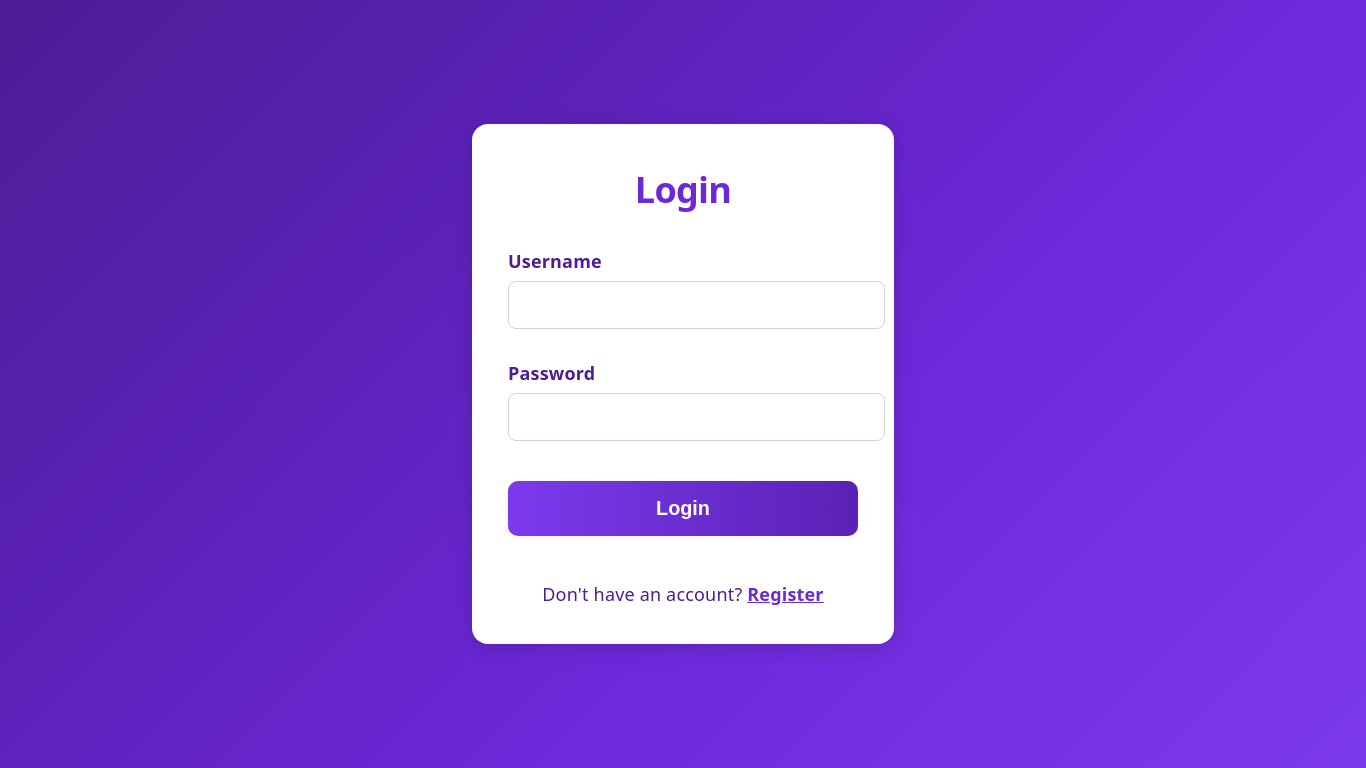
it: Login Page › shows error when login fails
The width and height of the screenshot is (1366, 768).
Type "testuser" into the field labelled "Username" at (697, 305), box [508, 281, 885, 329]
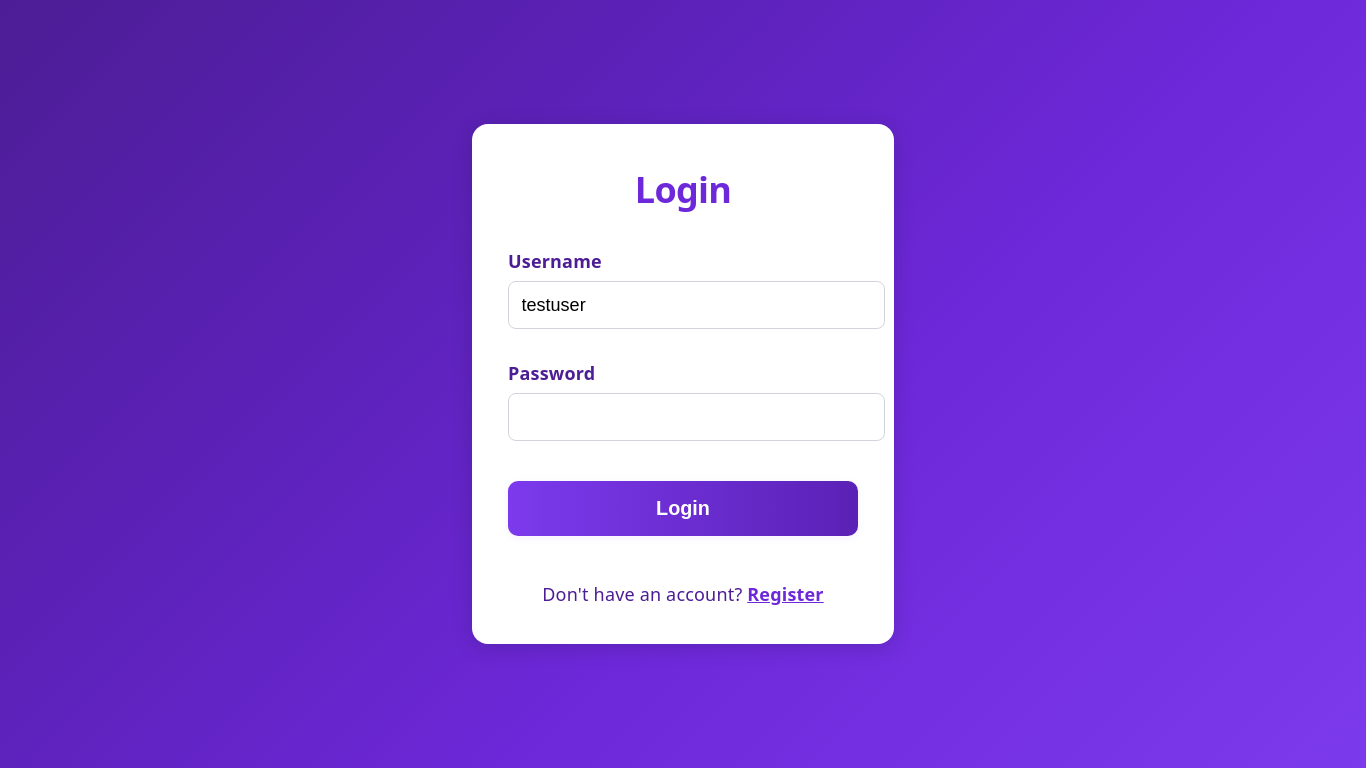
Type "wrongpassword" into the password field labelled "Password" at (697, 417), box [508, 393, 885, 442]
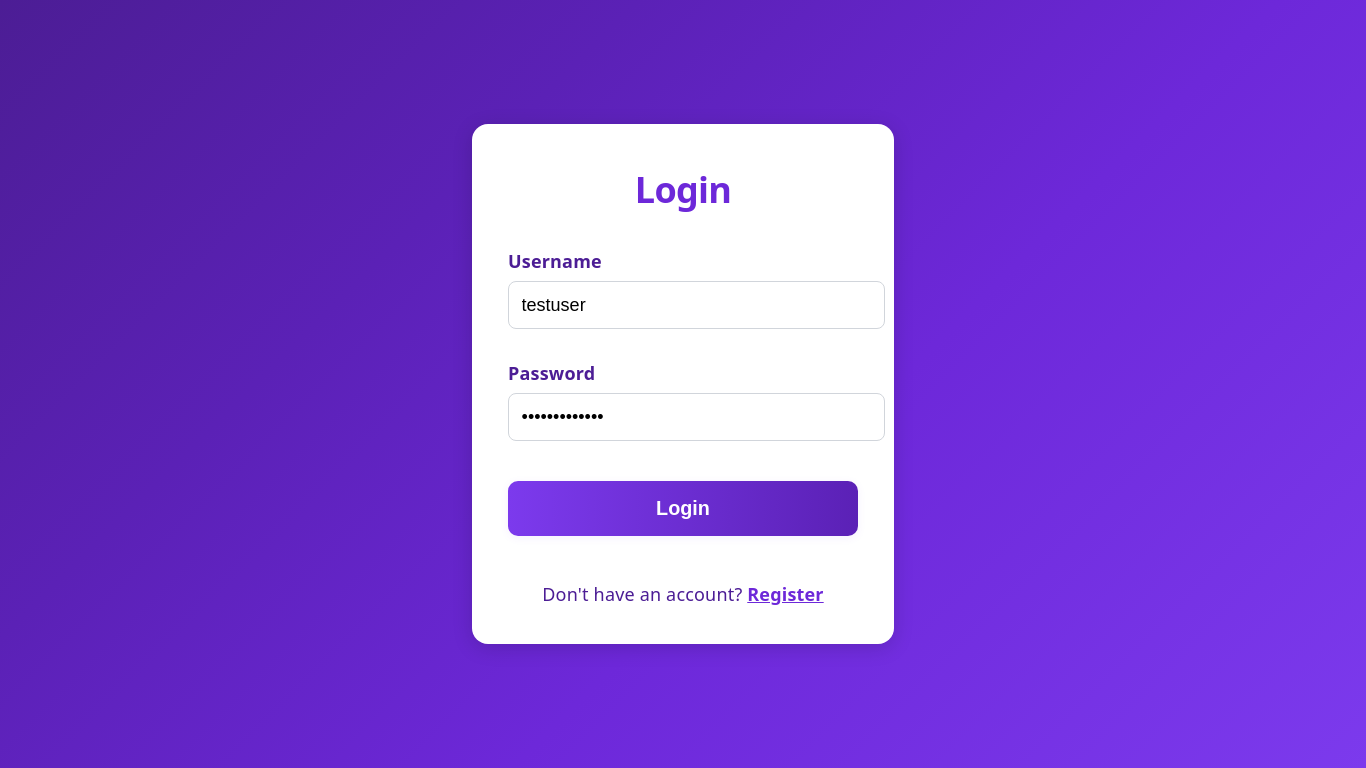
Click the button "Login" at (683, 509), box [508, 481, 858, 536]
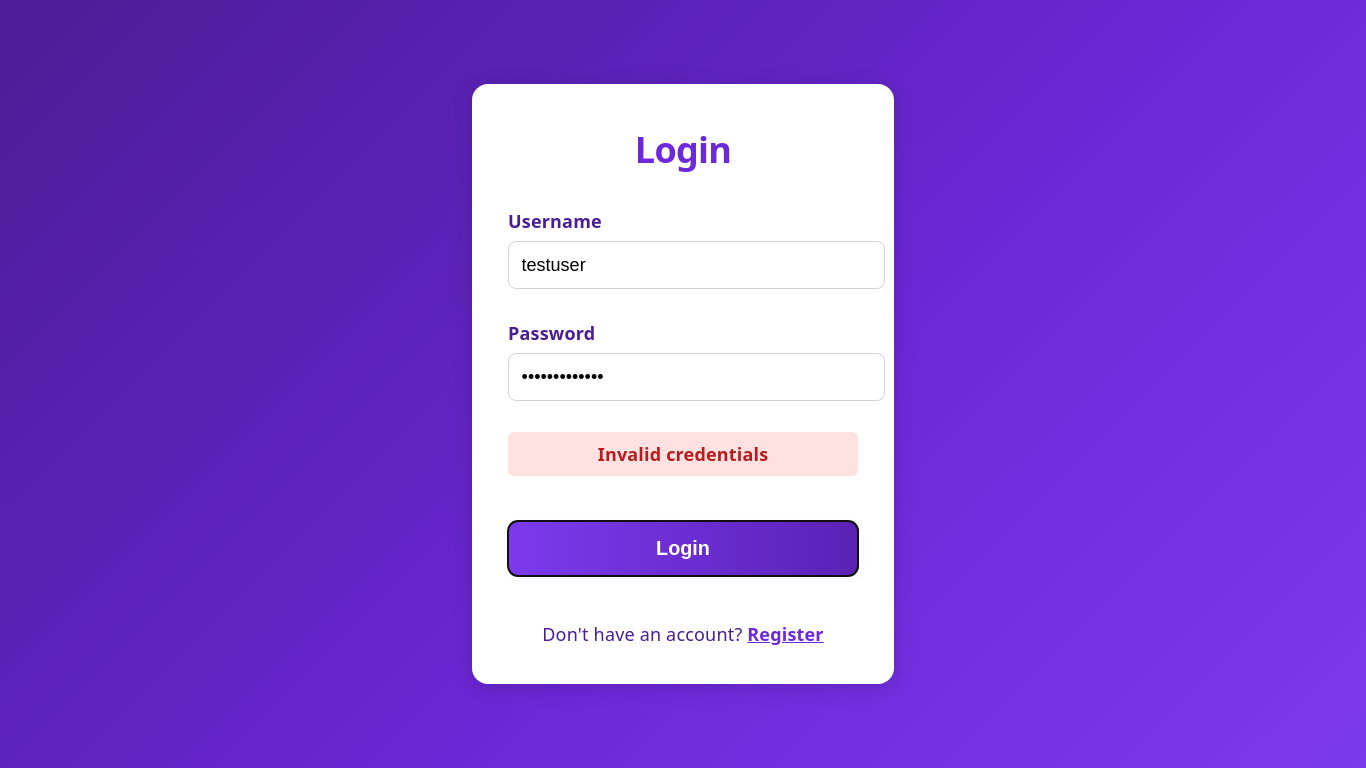
Now the text "Invalid credentials" is shown, box [508, 432, 858, 476]
